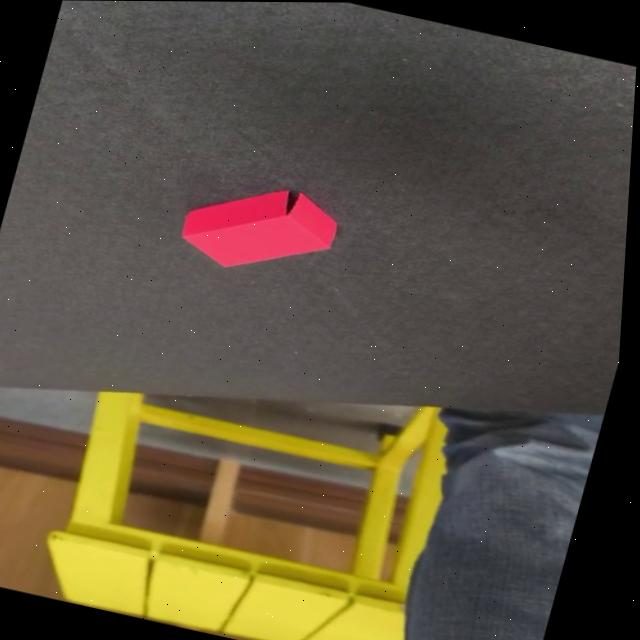red block: (171, 168, 347, 289)
